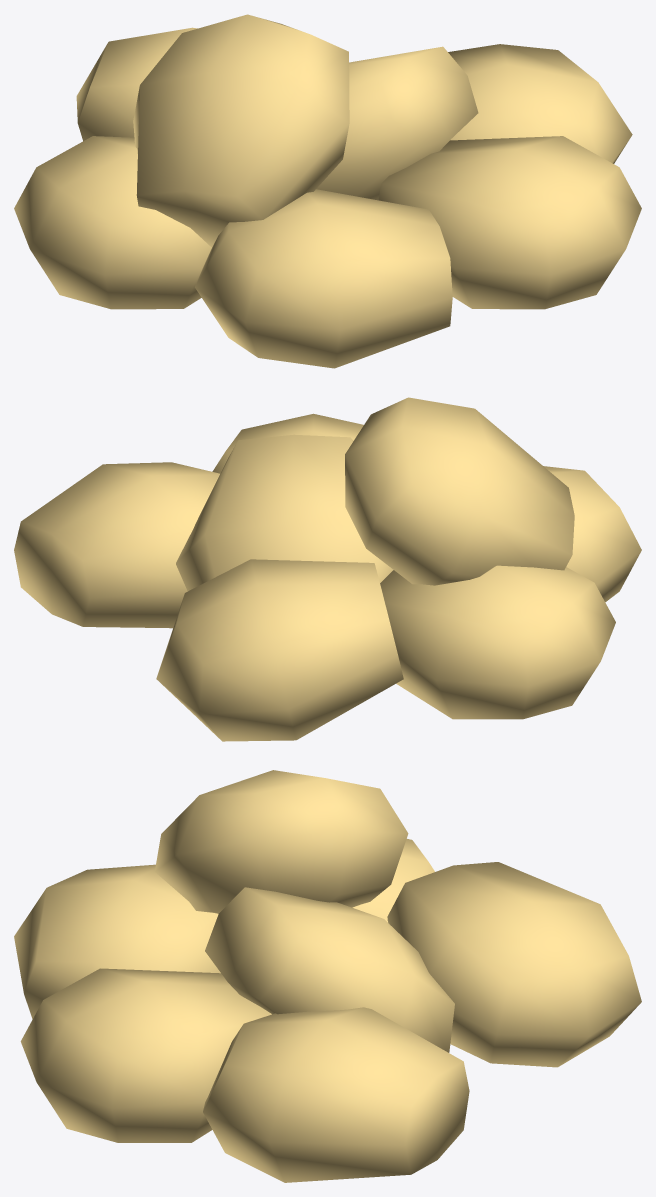
The model's file is CornCut.fbx.
3 views of the same model, one above another, from view 1: azimuth 30°, elevation 25°; view 2: azimuth 150°, elevation 25°; view 3: azimuth 270°, elevation 25° (orthographic). The views are drawn at different scales.
Visible parts, largest first — view 1: CornCut; view 2: CornCut; view 3: CornCut.
Boxes of the visible parts, left/top/right/bottom form: CornCut: left=14, top=14, right=641, bottom=368; CornCut: left=14, top=397, right=641, bottom=741; CornCut: left=14, top=770, right=641, bottom=1182.
Bounding box in the file's own units: 5.08 × 2.2 × 4.76.
